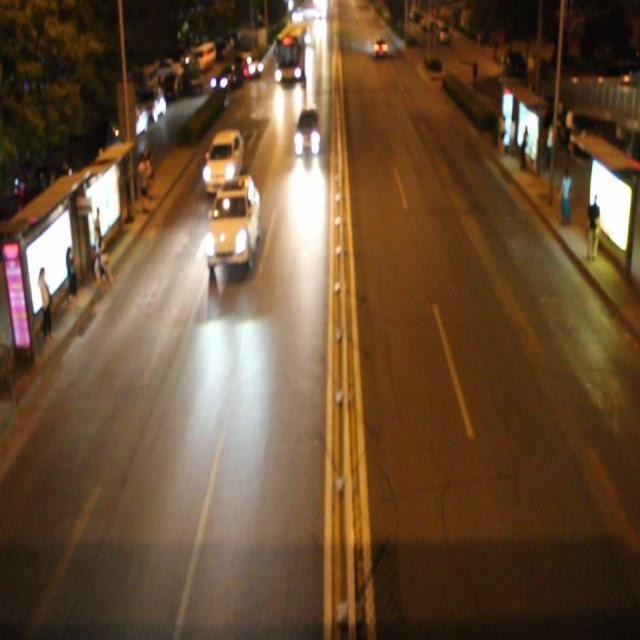car: (207, 174, 260, 274), (203, 125, 244, 195)
truck: (294, 101, 322, 155)
